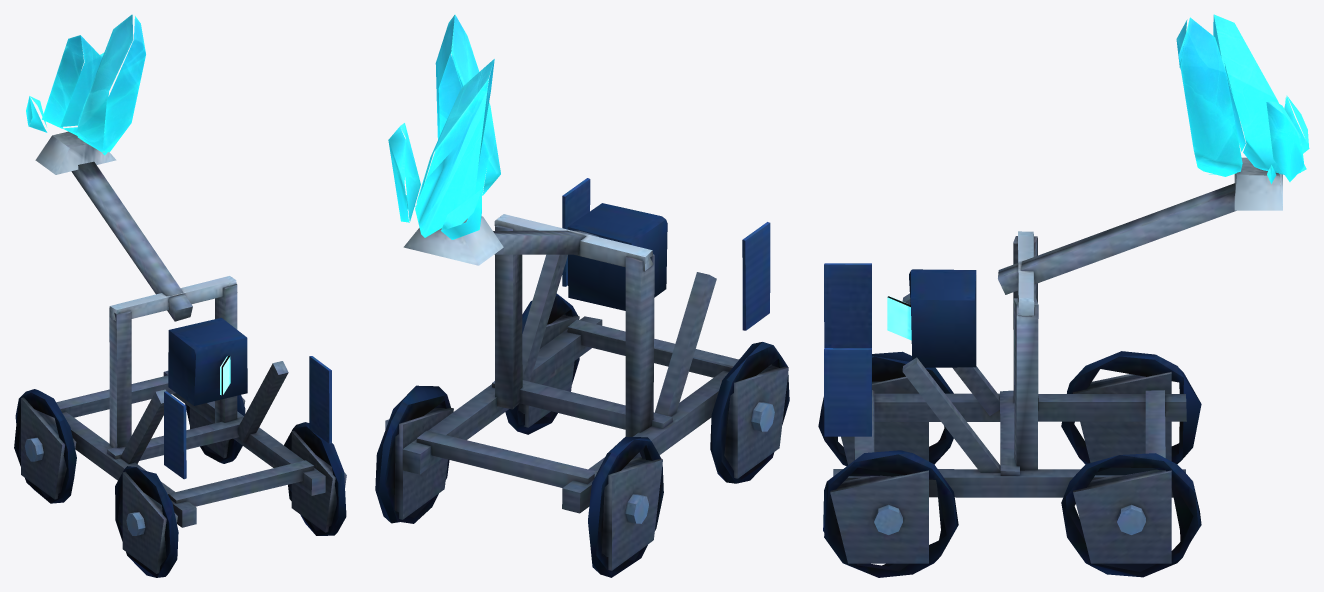
File: u_catapult_f_g.glb
3 views of the same model, side by side, from view 1: azimuth 30°, elevation 25°; view 2: azimuth 150°, elevation 25°; view 3: azimuth 270°, elevation 25° (orthographic). The views are drawn at different scales.
Parts seen in each view (by area): view 1: u_catapult_f; view 2: u_catapult_f; view 3: u_catapult_f.
Part boxes in pixels (x1,y1,x2,y2): u_catapult_f: [14, 14, 346, 577]; u_catapult_f: [375, 14, 789, 577]; u_catapult_f: [818, 14, 1309, 577].
Bounding box in the file's own units: 1.68 × 3.6 × 3.03.
Materials: 2 (2 with a texture image).
